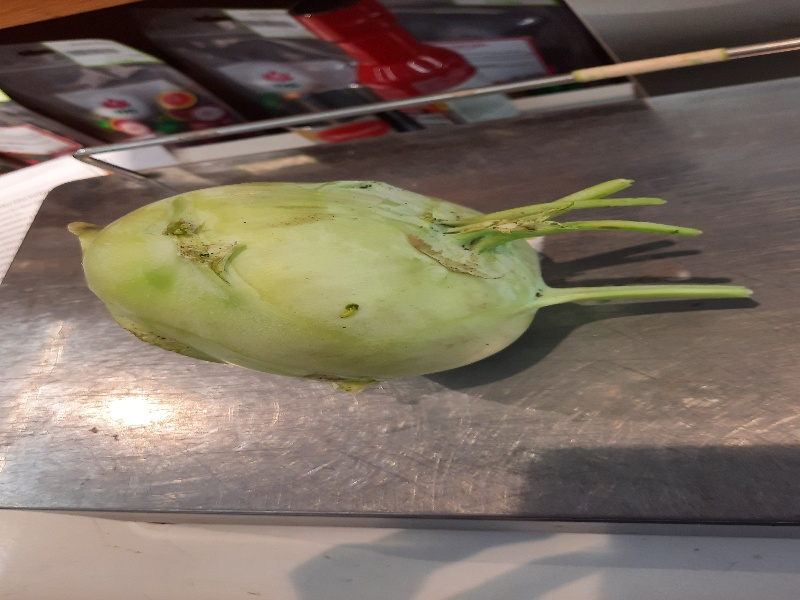vege: (65, 174, 762, 411)
